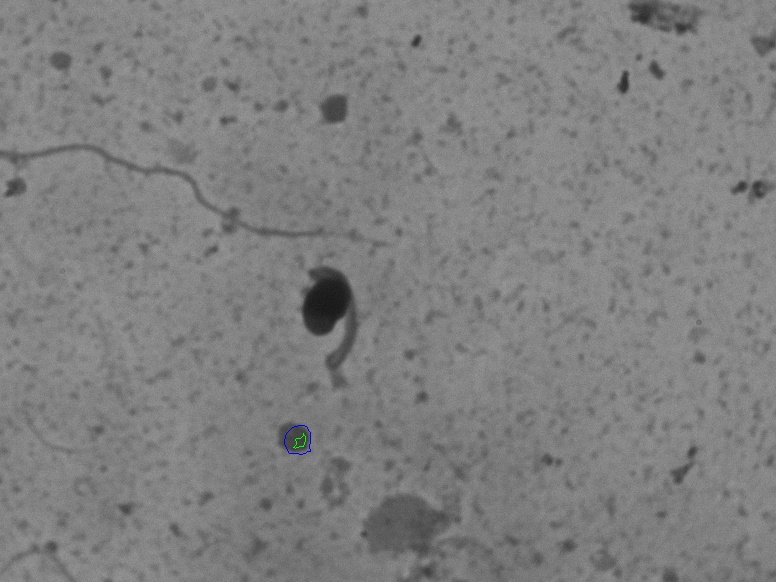Abnormal: (275, 252, 386, 391)
